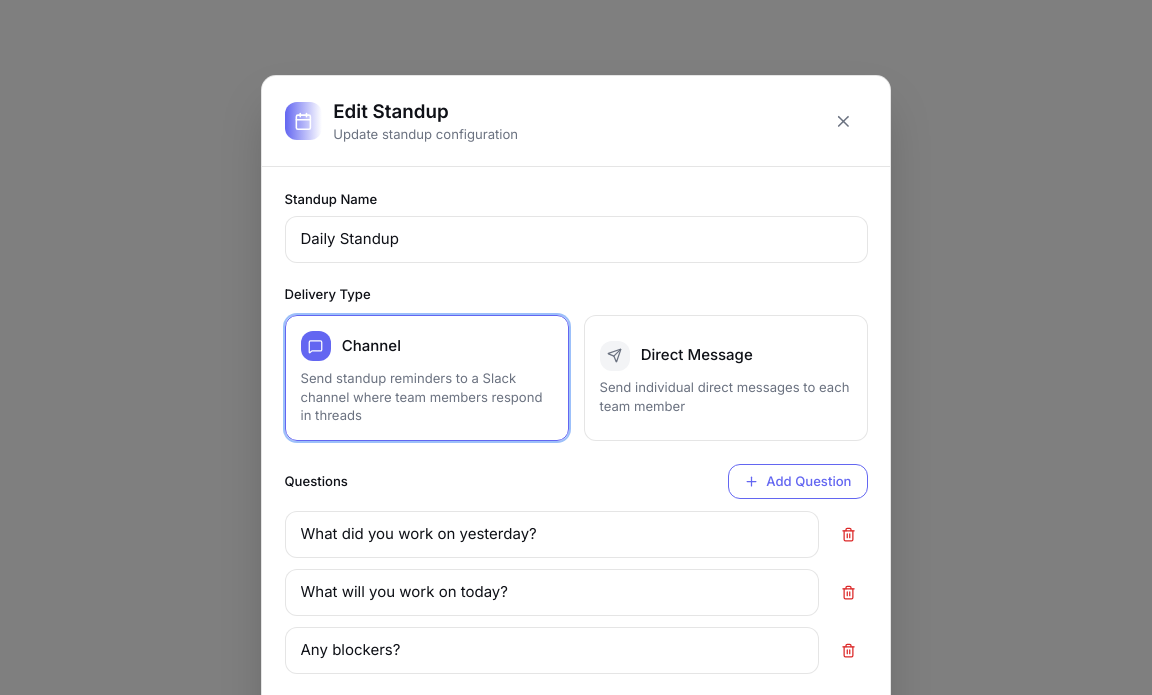
Scenario: StandupEditModal › removes question when delete button is clicked
Expected: the number of fields with placeholder "Enter your question..." is 3, [284,510,819,558]; [284,569,819,616]; [284,627,819,674]
# Click the first delete button (should be available since we have more than 1 question)
Click the 1st button named "delete": (849, 534) [830,510,868,558]
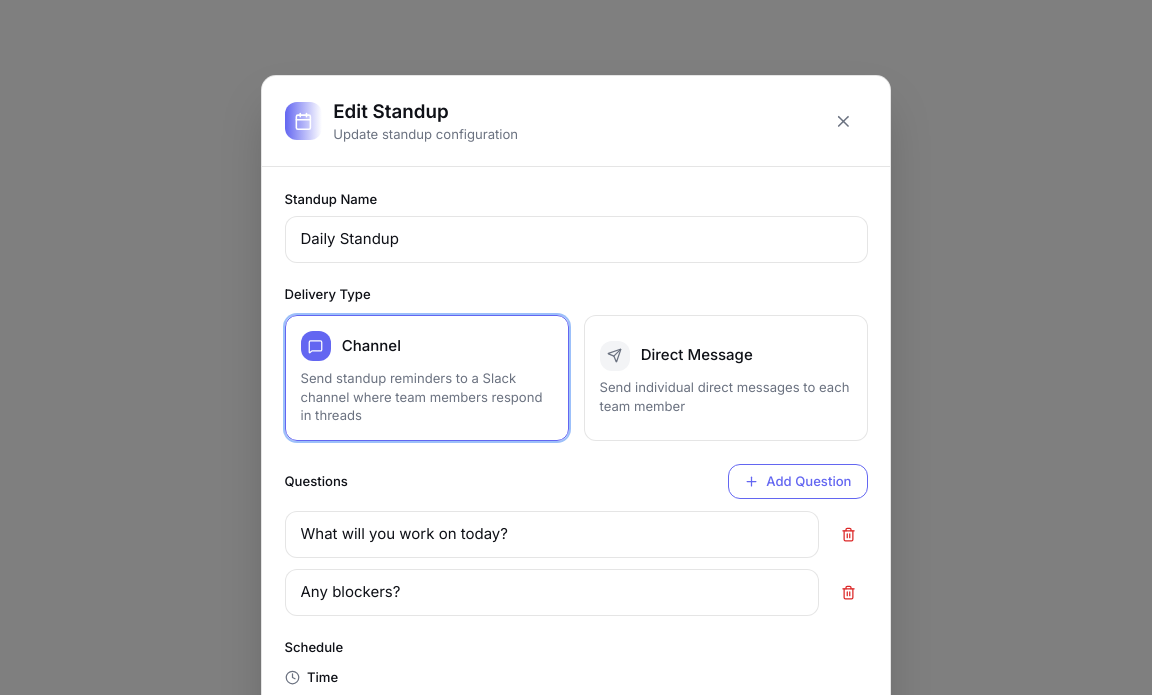
Now the number of fields with placeholder "Enter your question..." is 2, box [284,510,819,558]; [284,569,819,616]
